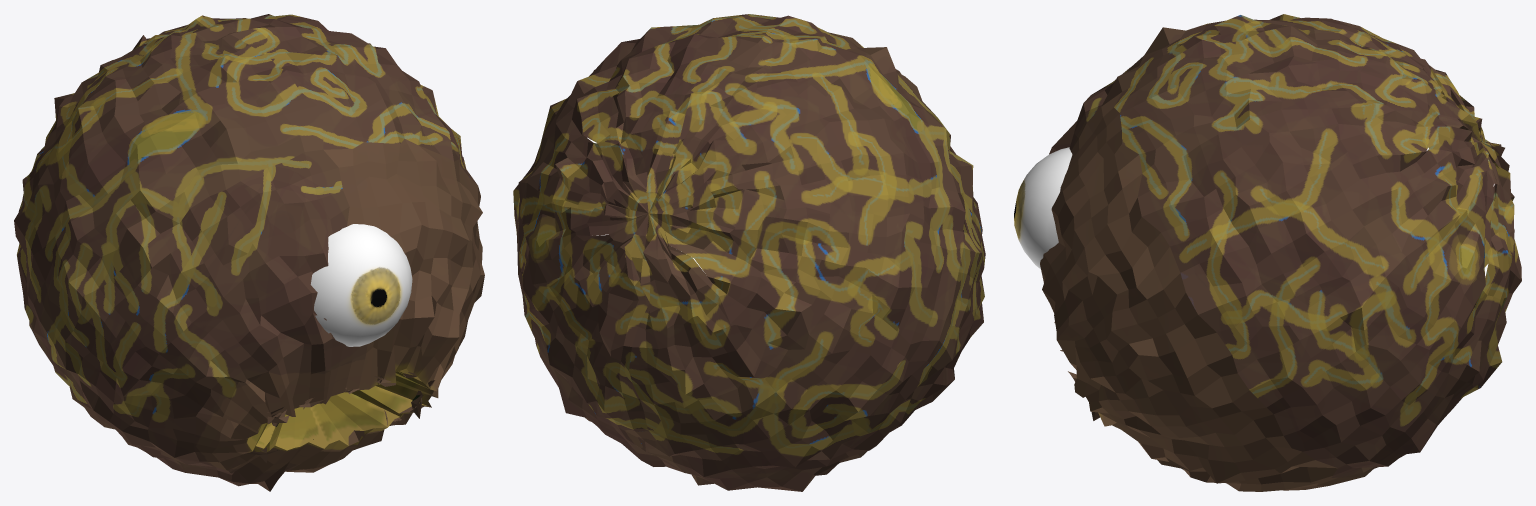
Rendered from WatcherRed.glb.
3 renders of one model, left to right at view 1: azimuth 30°, elevation 25°; view 2: azimuth 150°, elevation 25°; view 3: azimuth 270°, elevation 25°, orthographic. The views are drawn at different scales.
Parts seen in each view (by area): view 1: Watcher; view 2: Watcher; view 3: Watcher.
Boxes of the visible parts, x1,y1,x2,y2 form: Watcher: [14, 14, 484, 491]; Watcher: [513, 14, 985, 491]; Watcher: [1014, 14, 1521, 491].
Bounding box in the file's own units: 1.27 × 1.3 × 1.34.
1 material, 1 textured.
